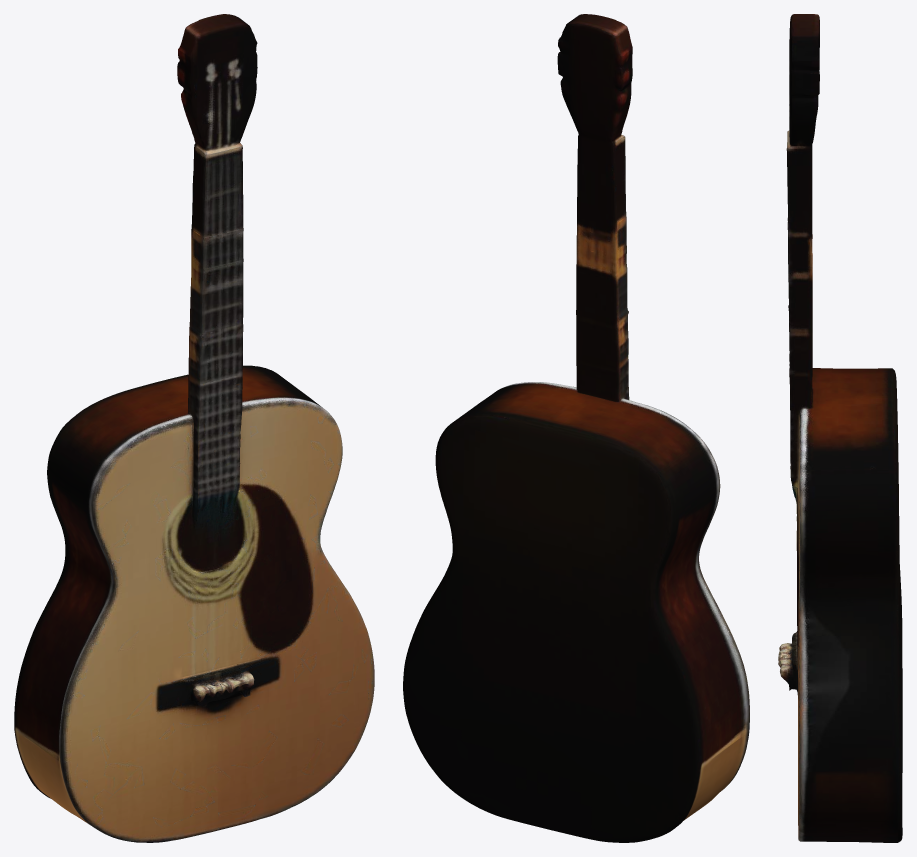
The model's file is guitar.fbx.
The picture shows the model from 3 angles, left to right: view 1: azimuth 30°, elevation 25°; view 2: azimuth 150°, elevation 25°; view 3: azimuth 270°, elevation 25°; orthographic projection. The views are drawn at different scales.
Visible parts, largest first — view 1: mesh; view 2: mesh; view 3: mesh.
Boxes of the visible parts, x1,y1,x2,y2 form: mesh: (14, 14, 374, 842); mesh: (403, 14, 749, 842); mesh: (778, 14, 902, 842).
Size of the model in its own units: 40.6 by 100 by 14.35.
1 material, 1 textured.
